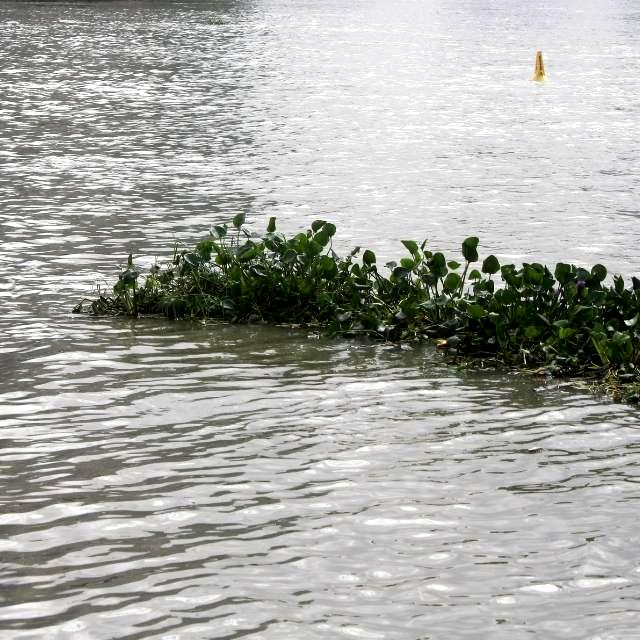water-hyacinth: (341, 244, 640, 386), (95, 211, 406, 344)
